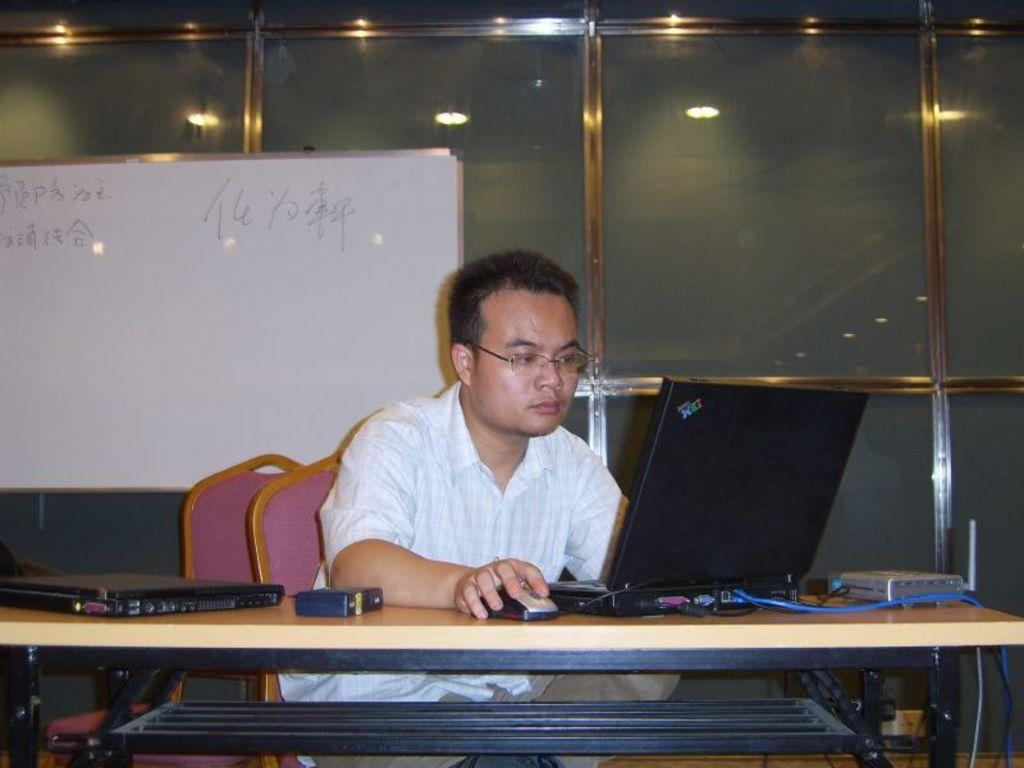Computer-mouse: (479, 581, 560, 622)
Laptop: (482, 374, 869, 618)
